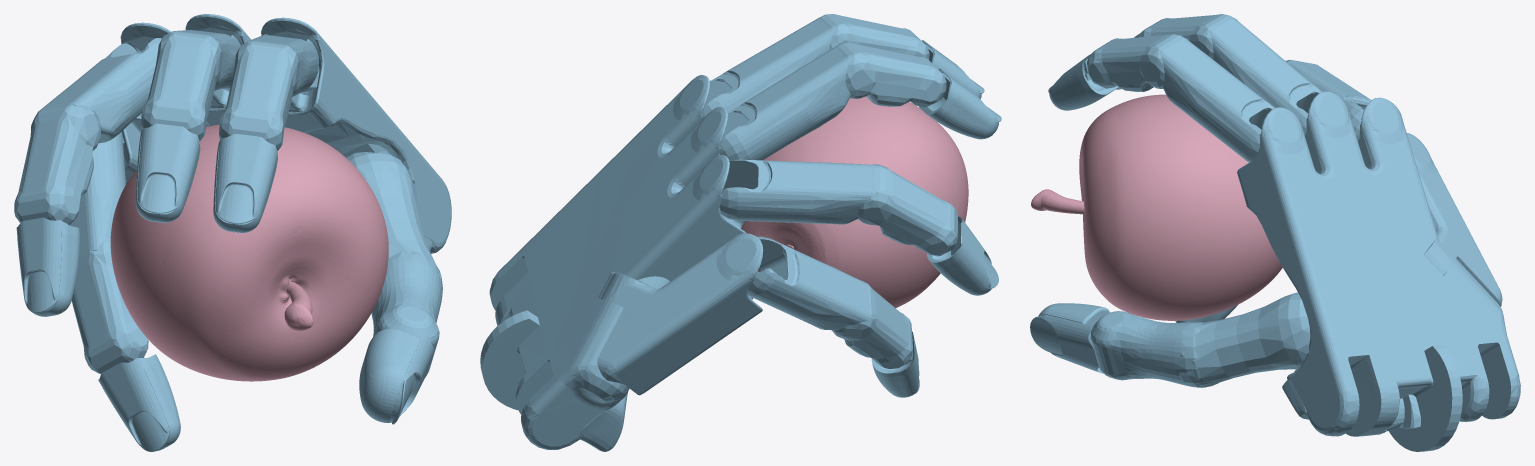
The picture shows the model from 3 angles, left to right: view 1: azimuth 30°, elevation 25°; view 2: azimuth 150°, elevation 25°; view 3: azimuth 270°, elevation 25°; orthographic projection. The views are drawn at different scales.
Parts seen in each view (by area): view 1: world, apple.stl; view 2: world, apple.stl; view 3: world, apple.stl.
Boxes of the visible parts, box(x1,y1,x2,y2) form: world: box(14, 14, 451, 451); apple.stl: box(110, 124, 388, 381); world: box(480, 14, 1001, 451); apple.stl: box(741, 96, 968, 308); world: box(1030, 14, 1520, 451); apple.stl: box(1031, 94, 1282, 320).
Size of the model in its own units: 0.1644 by 0.1246 by 0.1656.
